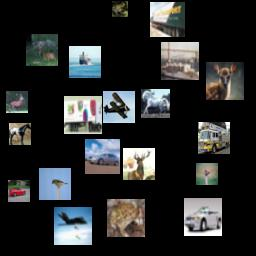airplane: (54, 207, 92, 245), (103, 91, 135, 123)
automobile: (184, 198, 222, 236), (85, 139, 120, 174), (8, 180, 30, 202)
bird: (39, 168, 71, 200), (196, 163, 218, 185)
deer: (206, 62, 244, 100), (26, 34, 58, 66), (123, 148, 155, 180), (6, 91, 28, 113)
frog: (107, 199, 145, 237), (112, 1, 128, 17)
ship: (161, 42, 199, 80), (69, 46, 101, 78)
truck: (64, 96, 102, 134), (150, 2, 185, 37), (198, 122, 230, 154)
